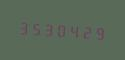five: (30, 17, 42, 38)
four: (69, 20, 81, 41)
nine: (95, 22, 107, 43)
three: (17, 16, 29, 37), (43, 18, 55, 39)
two: (82, 21, 94, 42)
zero: (56, 19, 68, 40)
